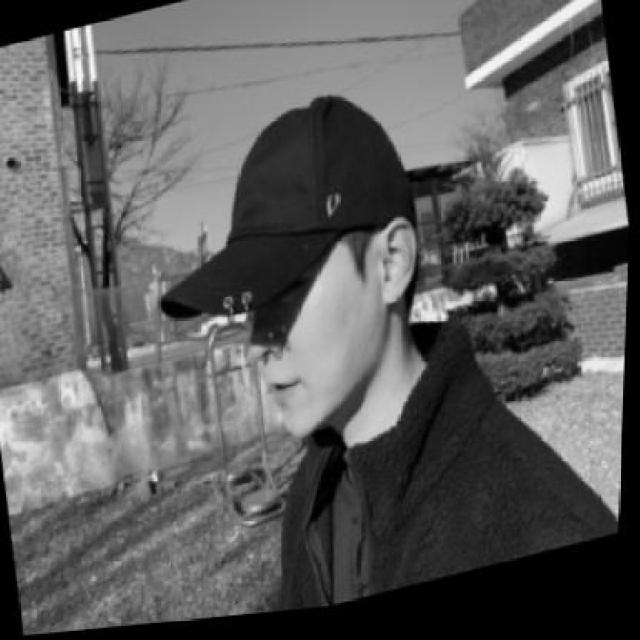hat: (128, 77, 435, 349)
